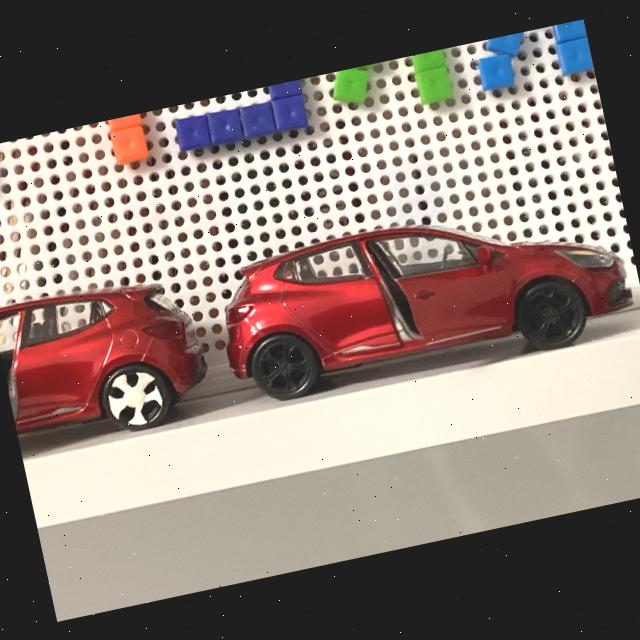Dogru_Jant: (253, 336, 314, 397), (522, 282, 582, 342)
Yanlis_Jant: (102, 365, 168, 431)
